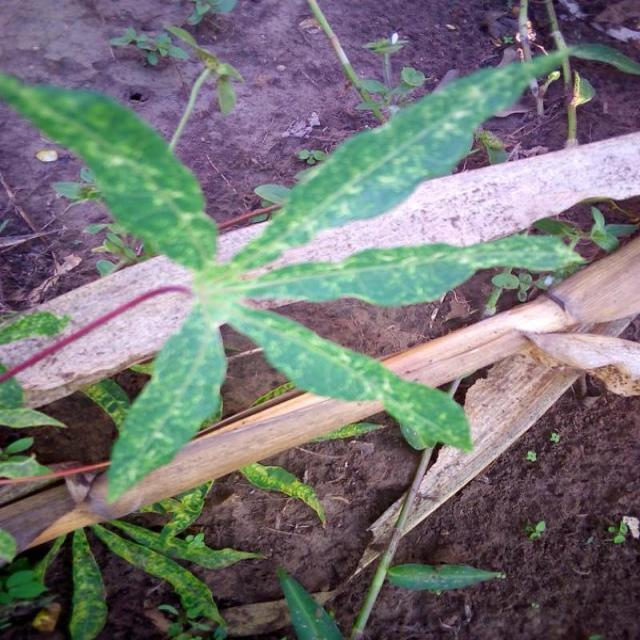cassava leaf: (2, 38, 626, 509)
